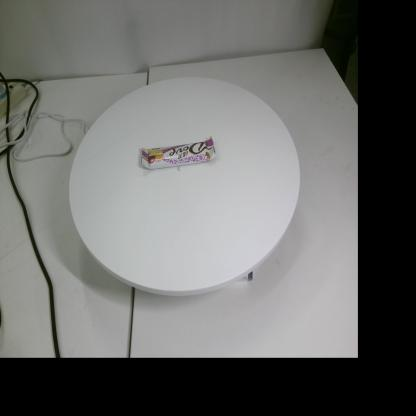Chocolate: (141, 136, 216, 170)
